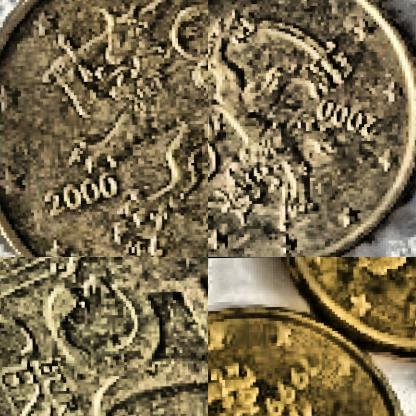coin: (0, 0, 207, 256), (208, 0, 415, 256), (0, 257, 207, 415), (208, 311, 415, 415)
